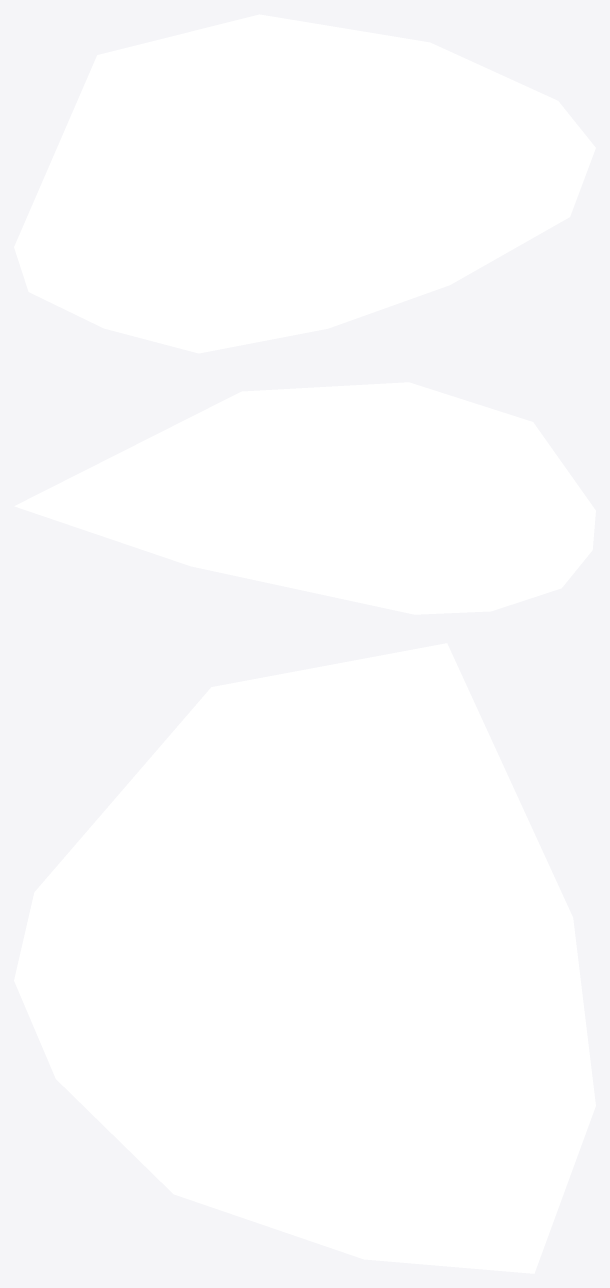
The model's file is LowPolyRock_6.FBX.
3 renders of one model, top to bottom at view 1: azimuth 30°, elevation 25°; view 2: azimuth 150°, elevation 25°; view 3: azimuth 270°, elevation 25°, orthographic. The views are drawn at different scales.
Visible parts, largest first — view 1: Rock_7; view 2: Rock_7; view 3: Rock_7.
Part boxes in pixels (bbox=[...]): Rock_7: bbox=[14, 14, 595, 353]; Rock_7: bbox=[14, 382, 595, 614]; Rock_7: bbox=[14, 643, 595, 1273].
Bounding box in the file's own units: 2.55 × 0.7668 × 1.46.
1 material, 1 textured.
